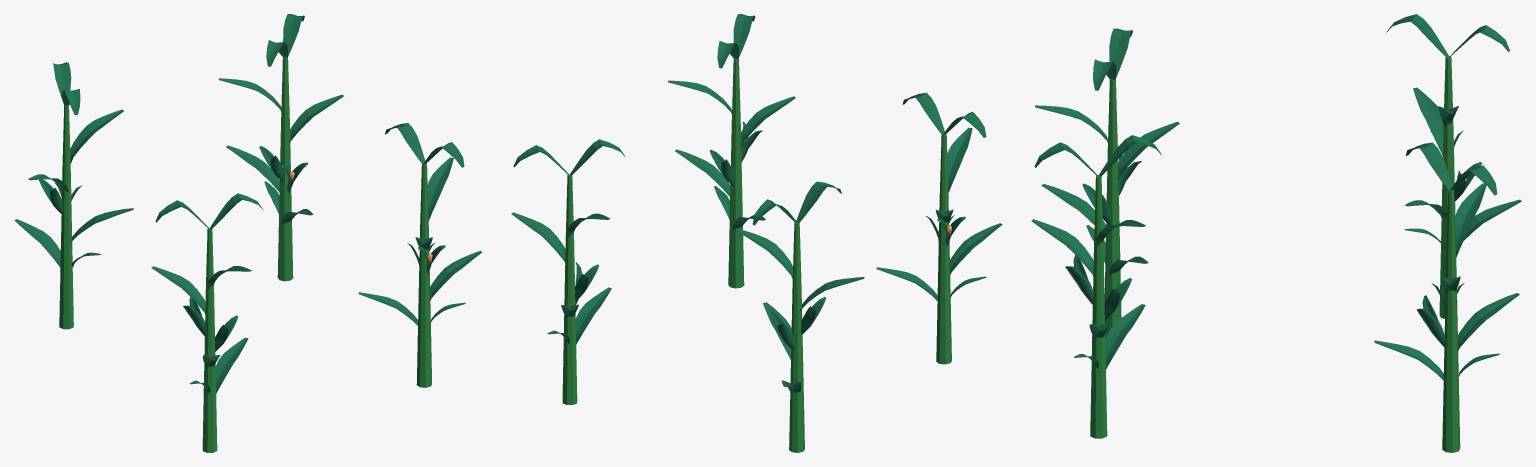
The model's file is Frikankolf4.fbx.
3 renders of one model, left to right at view 1: azimuth 30°, elevation 25°; view 2: azimuth 150°, elevation 25°; view 3: azimuth 270°, elevation 25°, orthographic. The views are drawn at different scales.
Visible parts, largest first — view 1: Frikankolf4; view 2: Frikankolf4; view 3: Frikankolf4.
Part boxes in pixels (left/top/right/bottom): Frikankolf4: left=14, top=14, right=482, bottom=452; Frikankolf4: left=511, top=14, right=1002, bottom=452; Frikankolf4: left=1031, top=14, right=1521, bottom=452.
Bounding box in the file's own units: 122 × 95.55 × 135.
